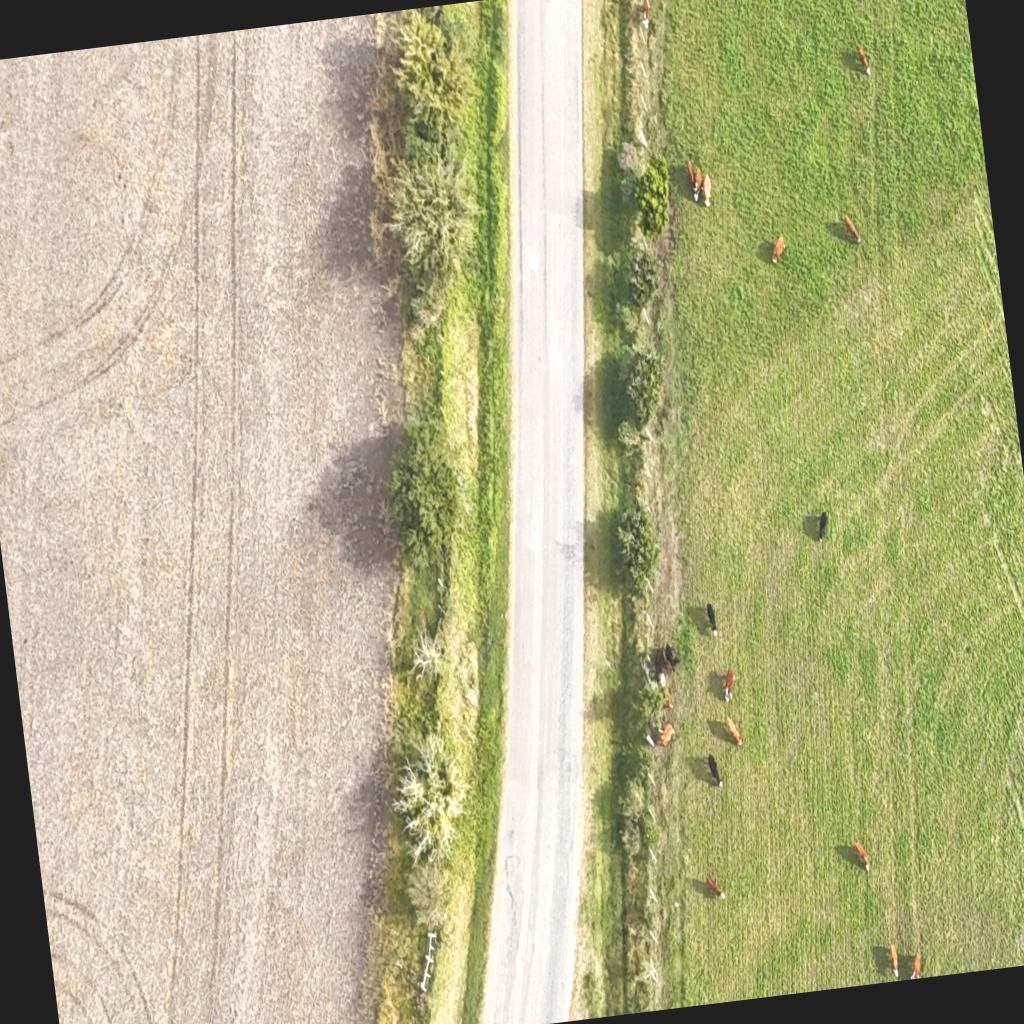cow: (686, 157, 704, 199), (720, 666, 738, 702), (698, 170, 714, 210), (726, 713, 743, 749), (706, 752, 722, 790), (853, 840, 871, 872), (844, 212, 860, 246), (706, 872, 724, 902), (856, 42, 871, 78), (657, 722, 677, 748), (770, 234, 787, 264), (815, 510, 831, 540), (705, 602, 718, 638), (907, 950, 923, 978), (888, 944, 901, 978), (662, 642, 676, 670), (639, 0, 651, 24), (662, 685, 673, 708), (718, 778, 724, 790)
